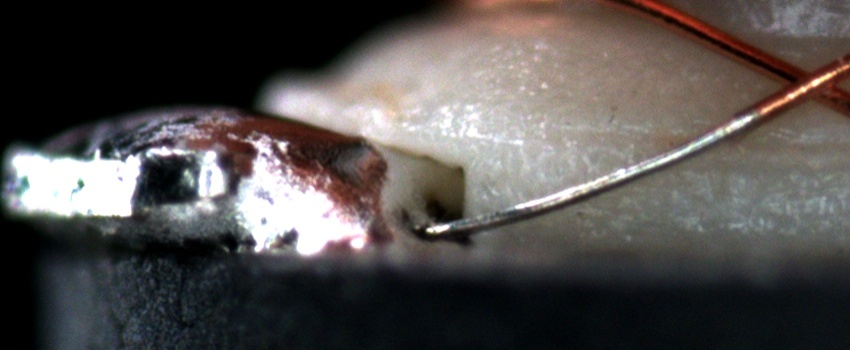CL: (760, 50, 846, 114)
DL: (532, 113, 850, 172)
TS: (421, 109, 760, 238)
